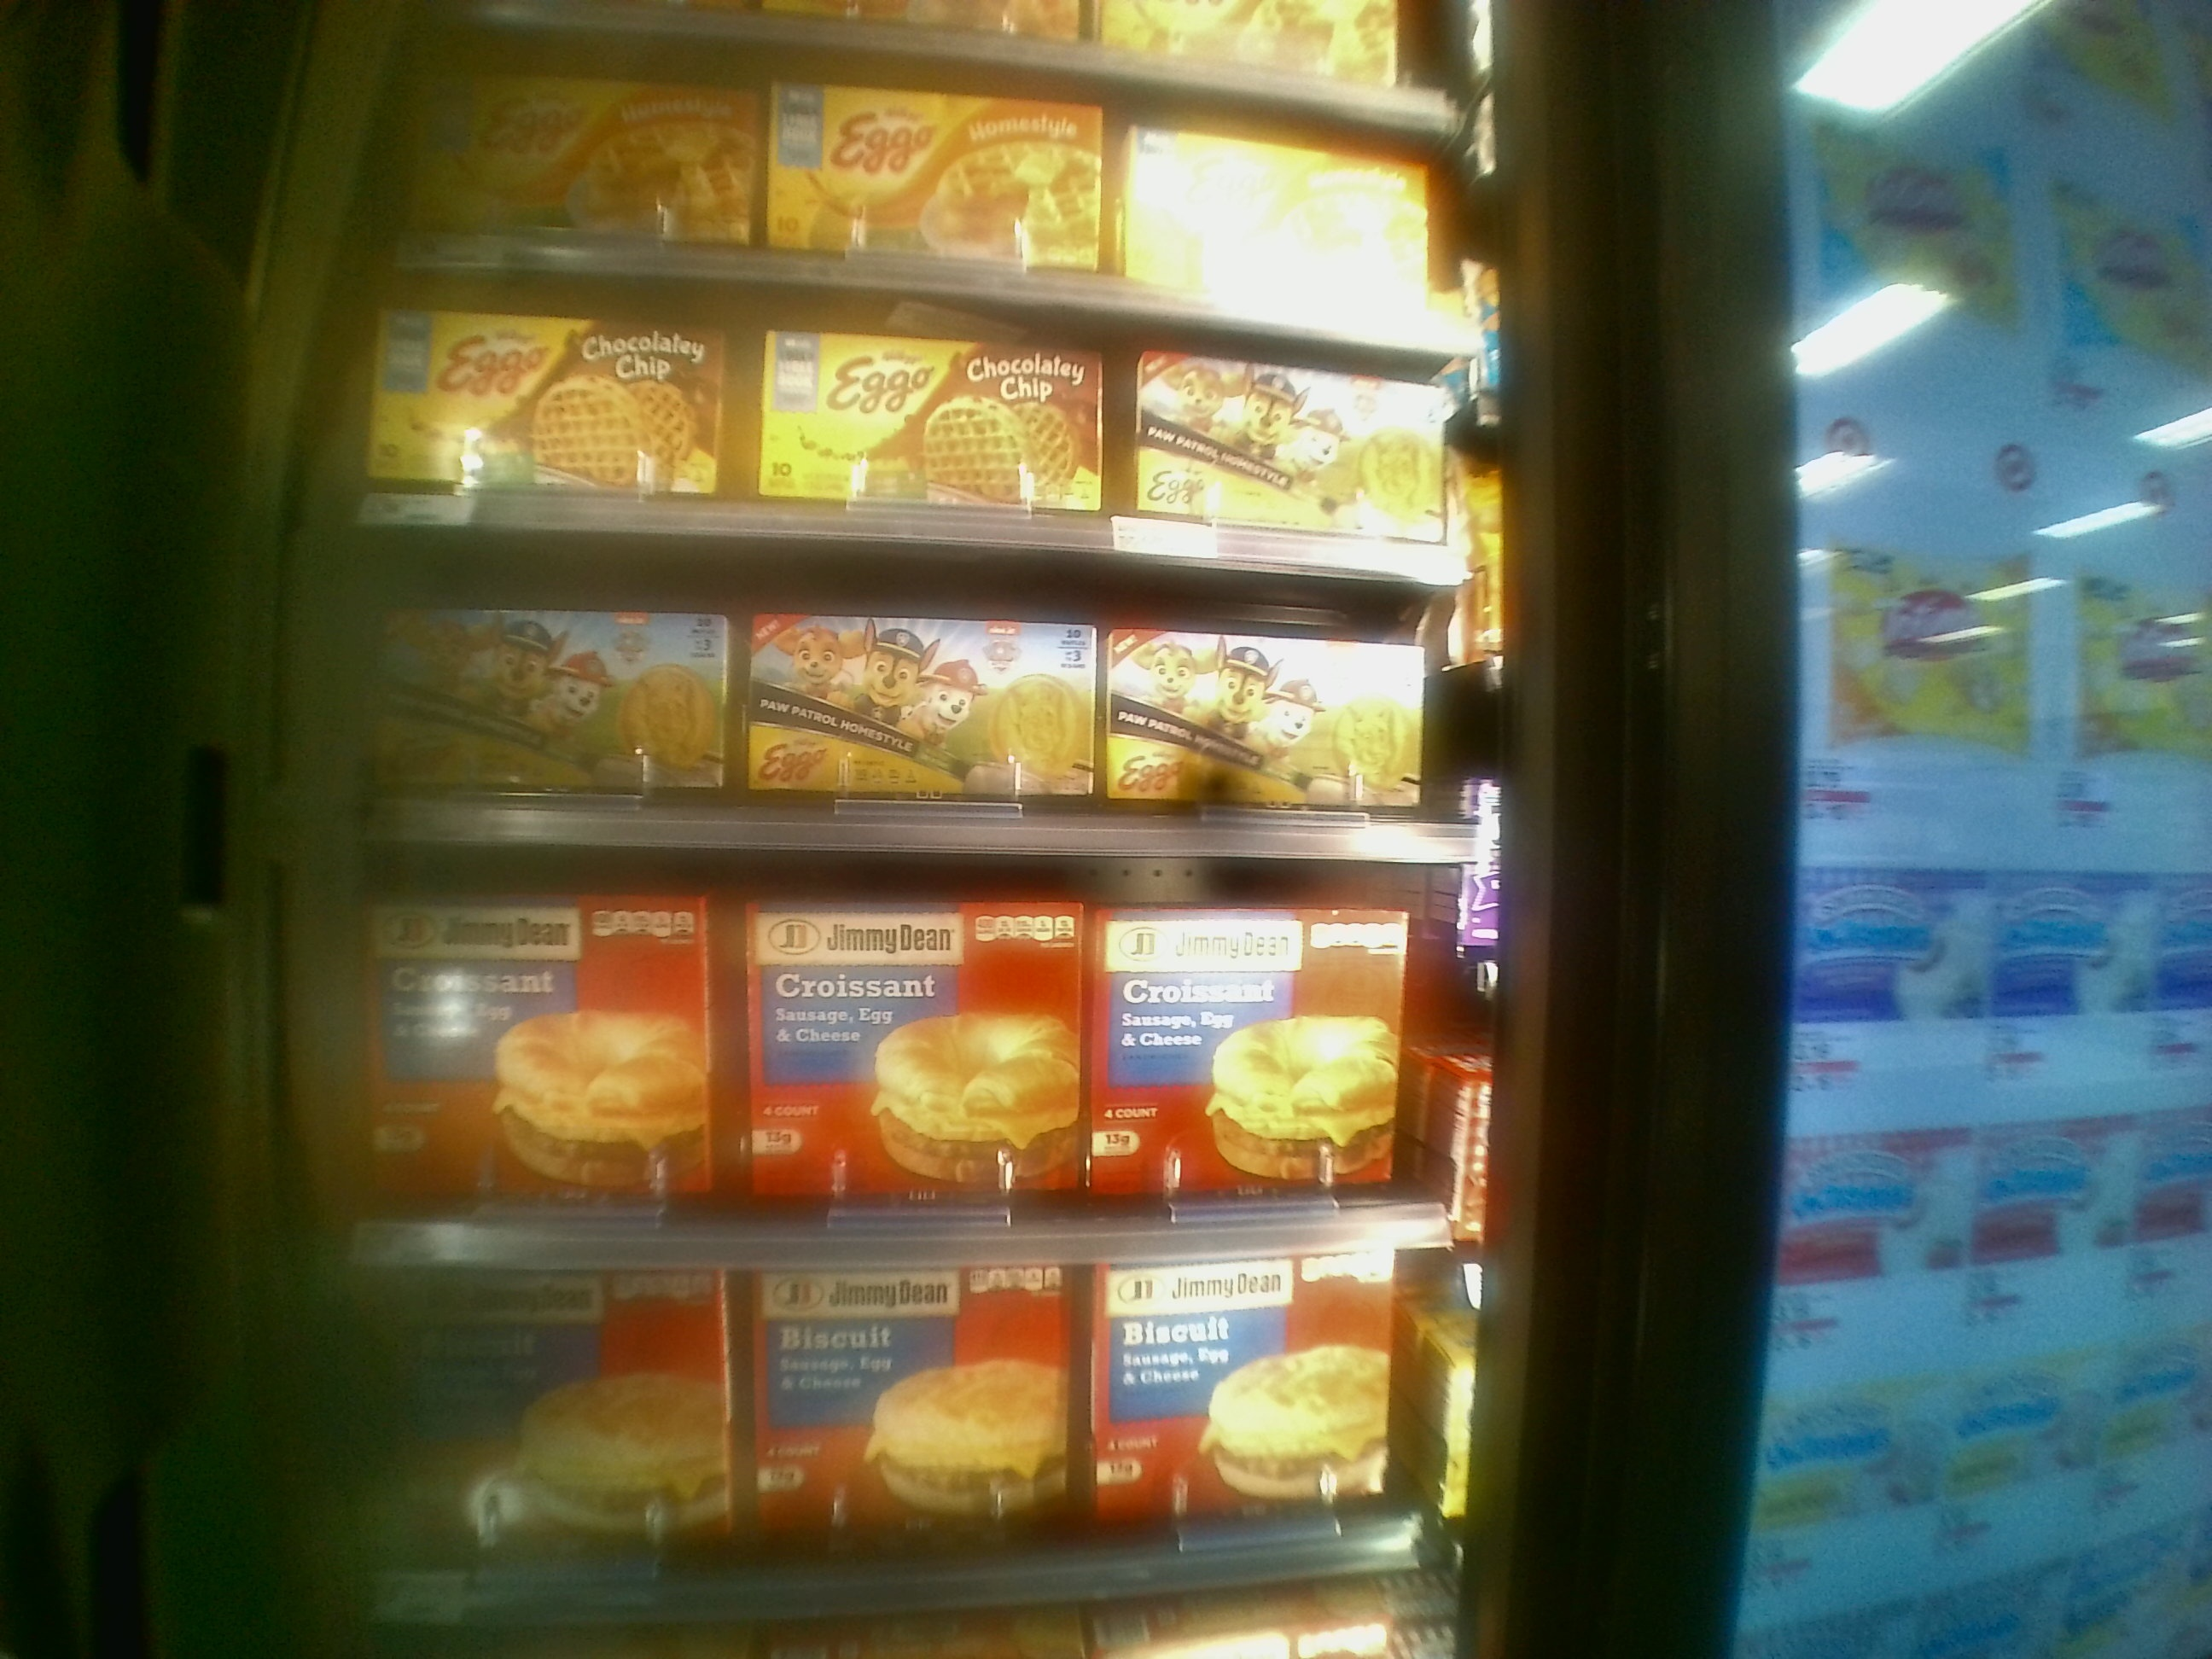shelf: (326, 847, 1474, 1270), (331, 526, 1458, 863), (340, 254, 1468, 582)
